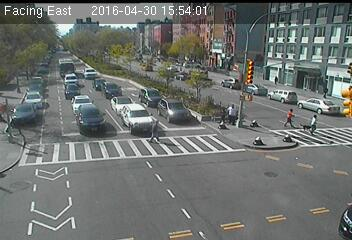neg: (120, 158, 151, 199), (255, 176, 285, 216), (62, 189, 89, 225), (263, 44, 289, 78), (202, 46, 226, 77), (91, 101, 114, 132), (182, 163, 204, 193), (48, 101, 70, 129), (160, 67, 181, 95), (315, 41, 333, 66), (240, 146, 257, 168)
pos: (147, 116, 167, 142), (306, 112, 324, 137), (225, 101, 243, 125), (1, 120, 17, 144), (283, 107, 299, 128)
